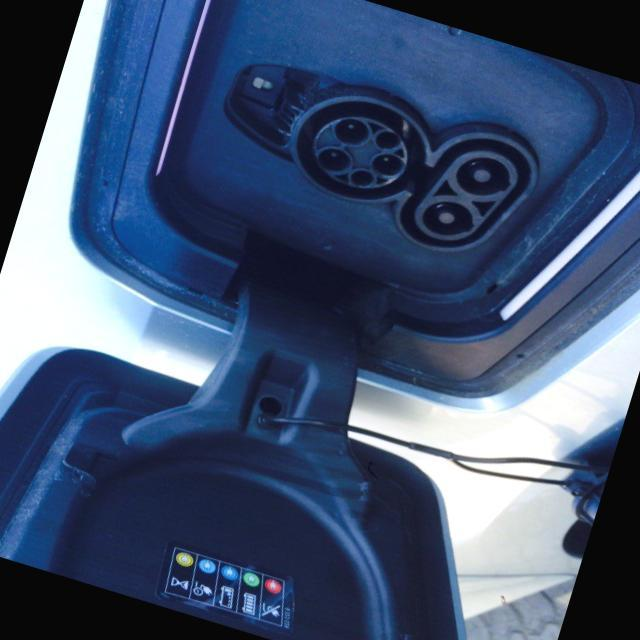CCS1: (276, 66, 555, 261)
